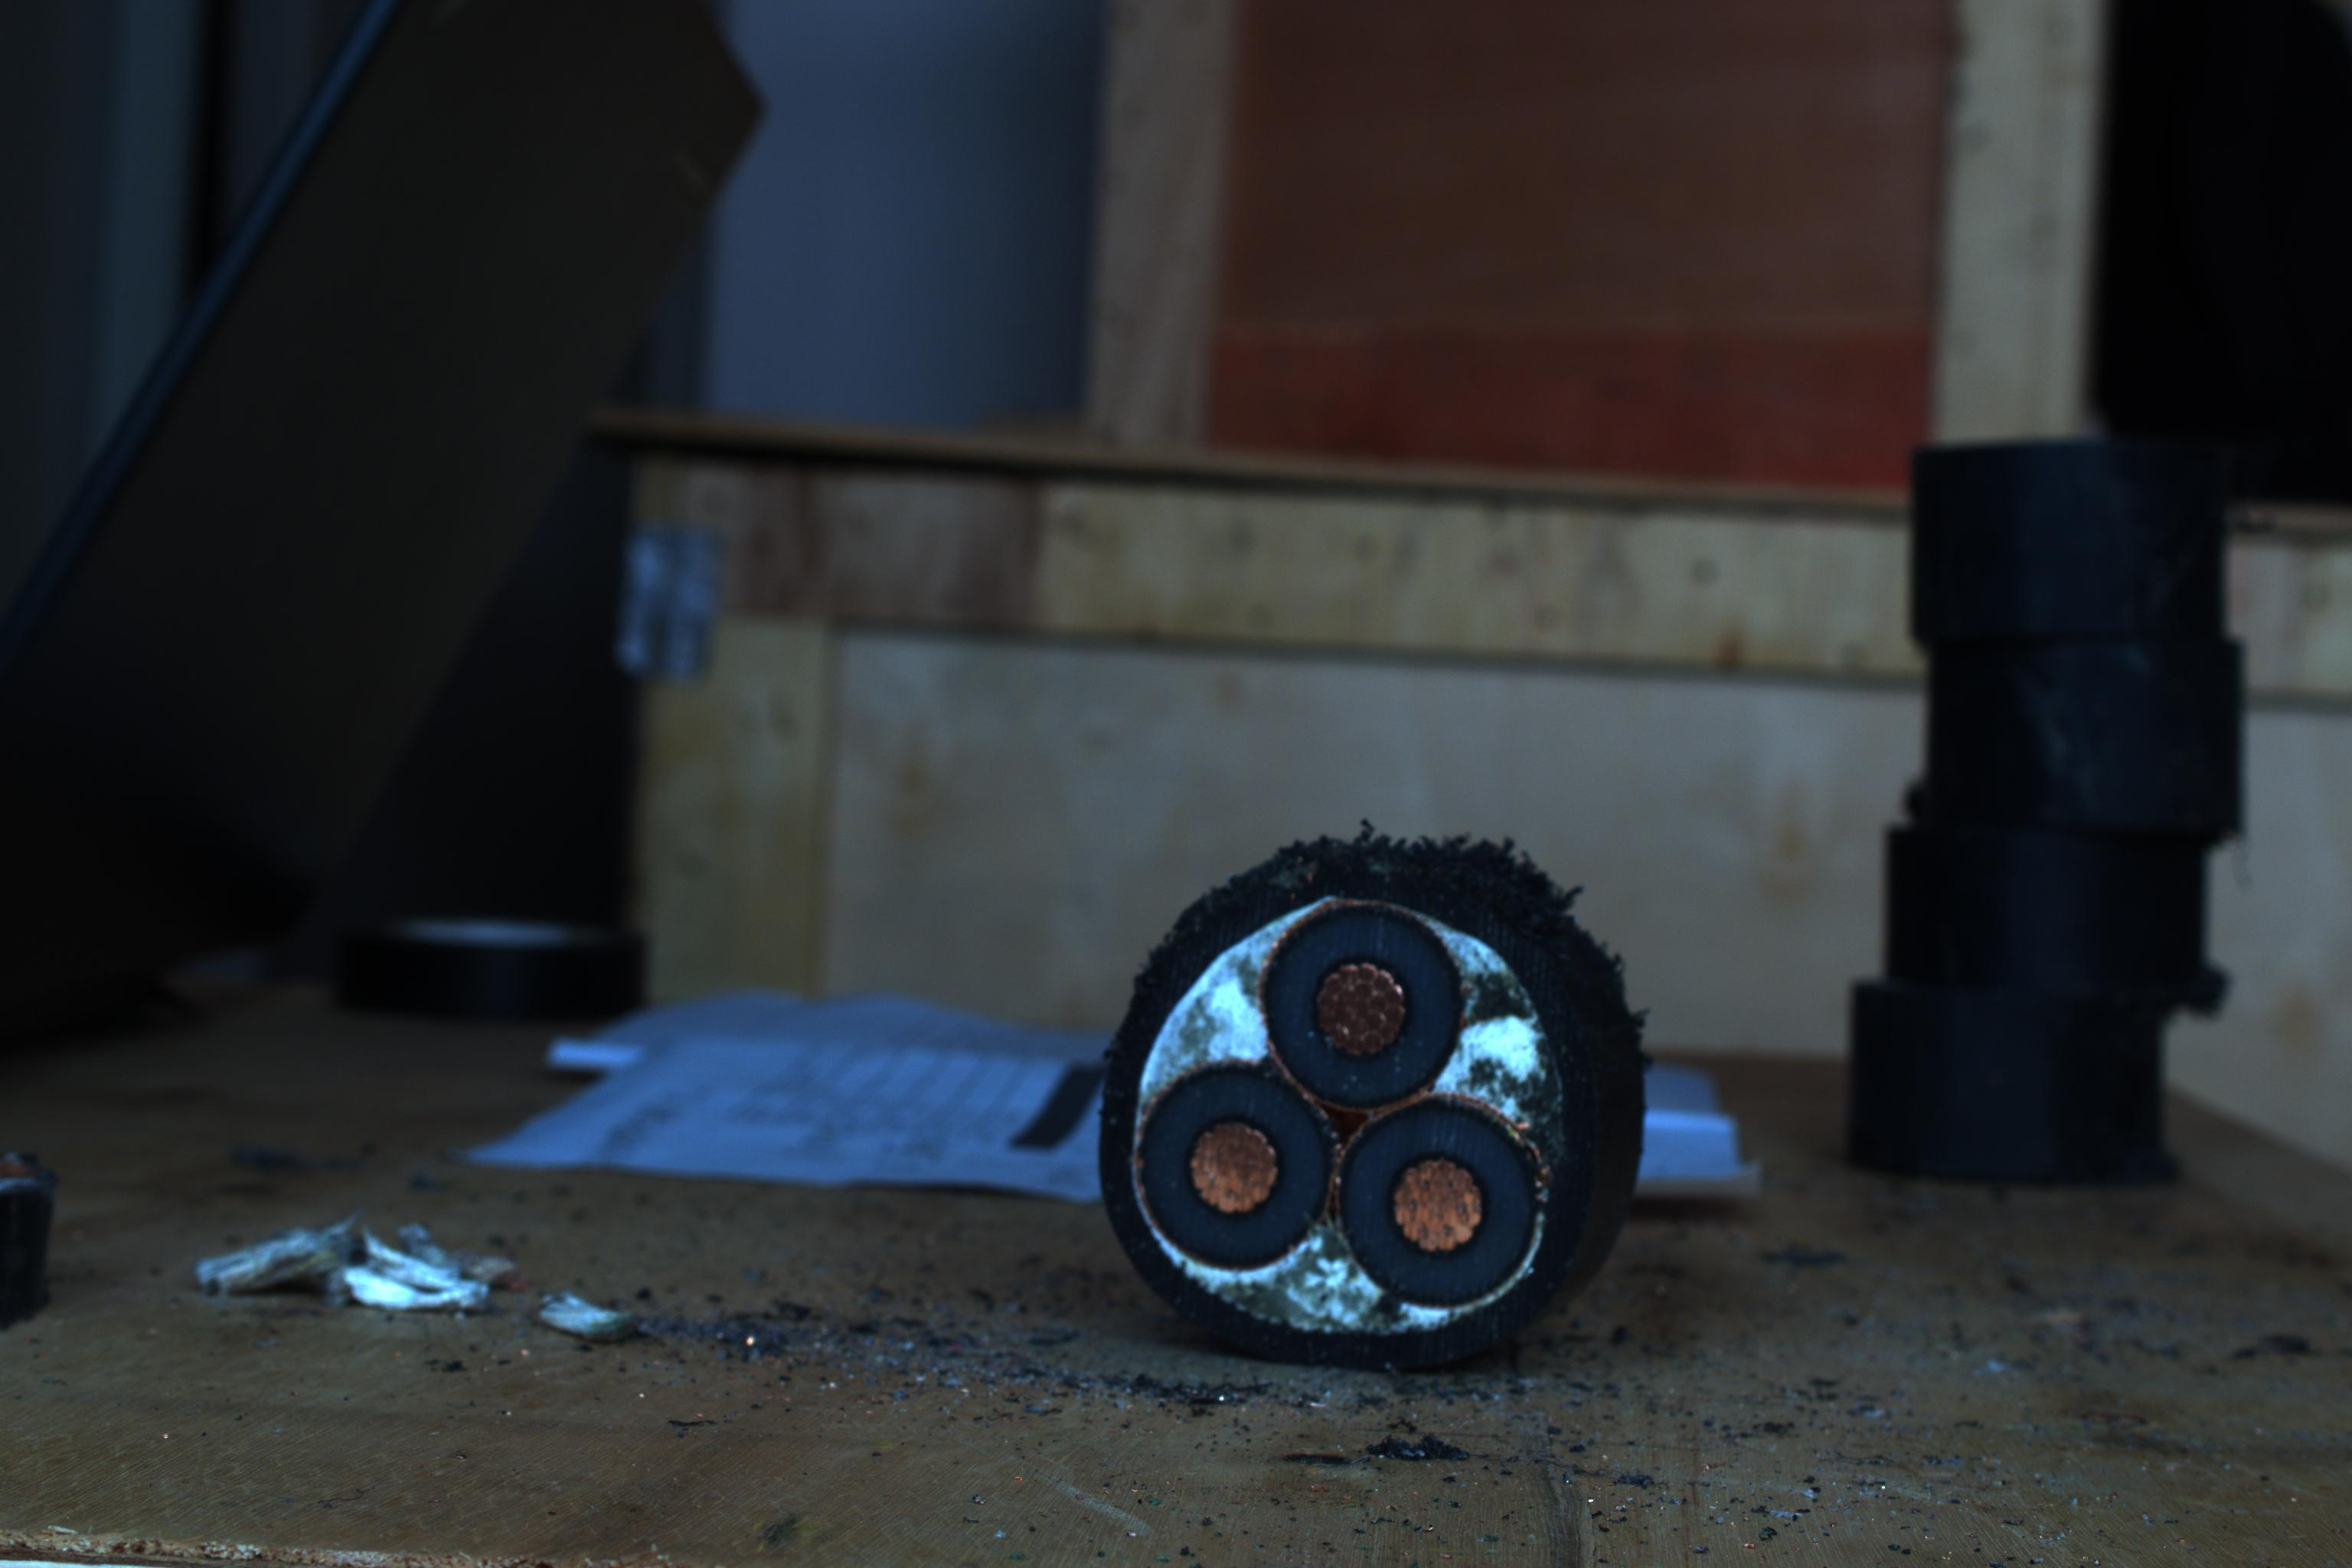YJV_8.7_10kV_3x70: (1087, 840, 1598, 1368)
